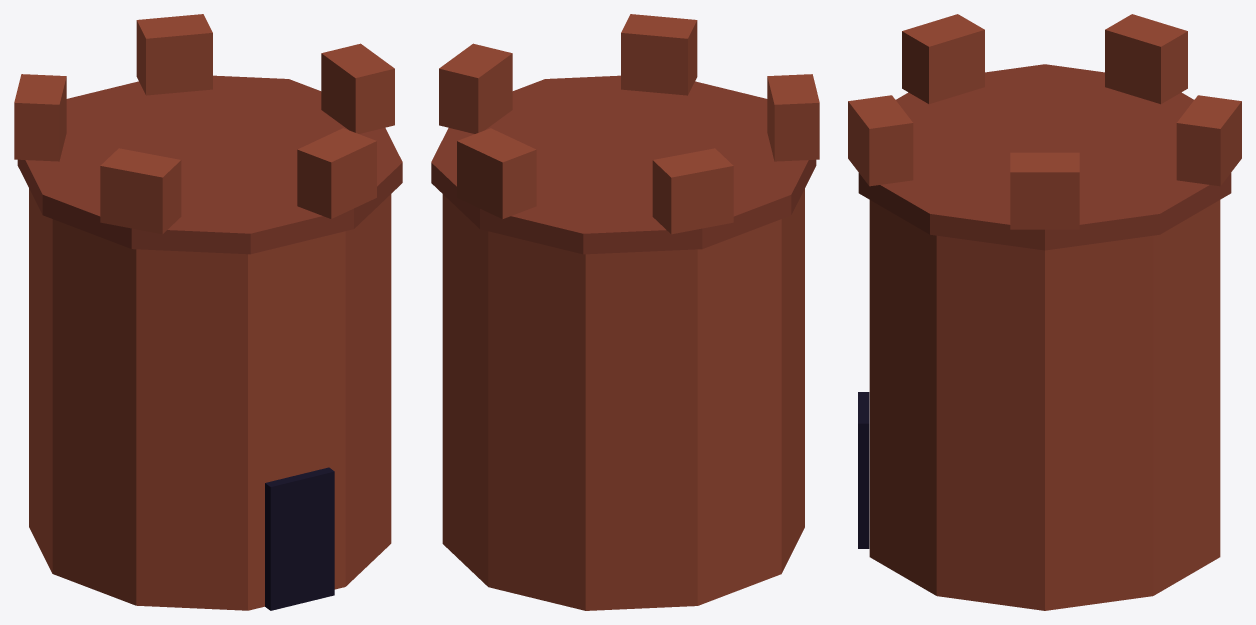
File: fort_corner_tower.glb
The picture shows the model from 3 angles, left to right: view 1: azimuth 30°, elevation 25°; view 2: azimuth 150°, elevation 25°; view 3: azimuth 270°, elevation 25°; orthographic projection.
Visible parts, largest first — view 1: model; view 2: model; view 3: model.
Boxes of the visible parts, x1=… form: model: x1=14, y1=14, x2=402, y2=610; model: x1=431, y1=14, x2=819, y2=610; model: x1=848, y1=14, x2=1241, y2=610.
Bounding box in the file's own units: 6.8 × 8.5 × 6.84.
